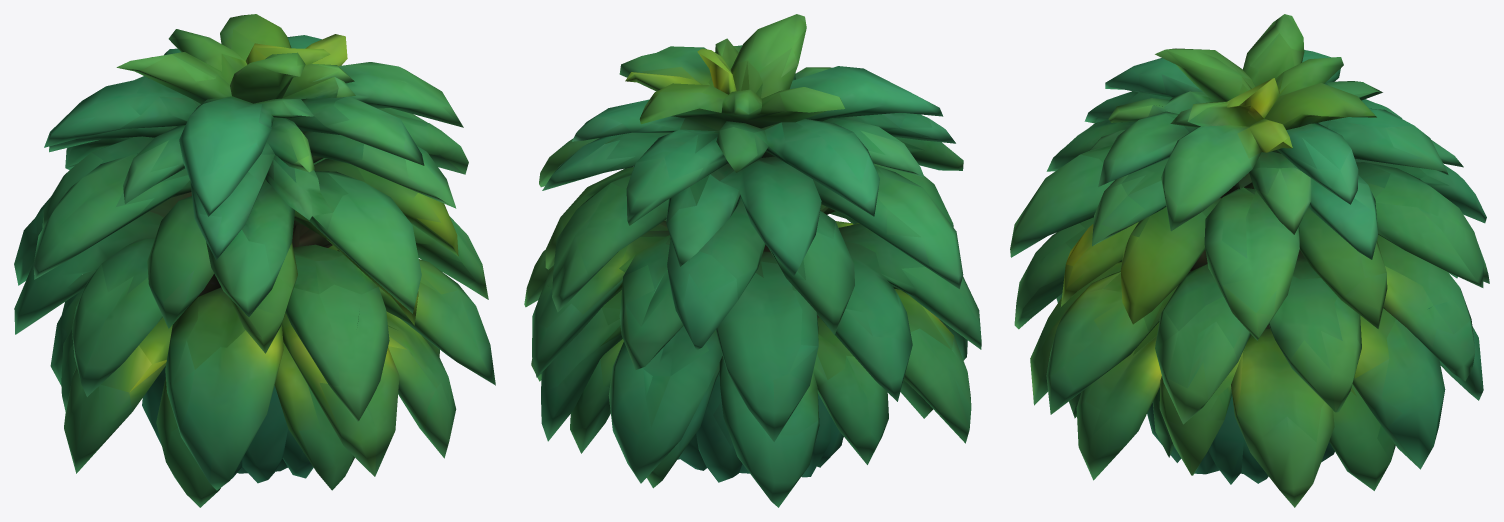
The model's file is bush_broadleaf.glb.
The picture shows the model from 3 angles, left to right: view 1: azimuth 30°, elevation 25°; view 2: azimuth 150°, elevation 25°; view 3: azimuth 270°, elevation 25°; orthographic projection. The views are drawn at different scales.
Visible parts, largest first — view 1: tripo_node_1837ec05-f9a9-4f14-8111-d92840d6dfb8; view 2: tripo_node_1837ec05-f9a9-4f14-8111-d92840d6dfb8; view 3: tripo_node_1837ec05-f9a9-4f14-8111-d92840d6dfb8.
Boxes of the visible parts, <box> form: tripo_node_1837ec05-f9a9-4f14-8111-d92840d6dfb8: <box>14,14,495,507</box>; tripo_node_1837ec05-f9a9-4f14-8111-d92840d6dfb8: <box>524,14,981,507</box>; tripo_node_1837ec05-f9a9-4f14-8111-d92840d6dfb8: <box>1010,14,1489,507</box>.
Bounding box in the file's own units: 1.08 × 1 × 1.07.
1 material, 1 textured.
